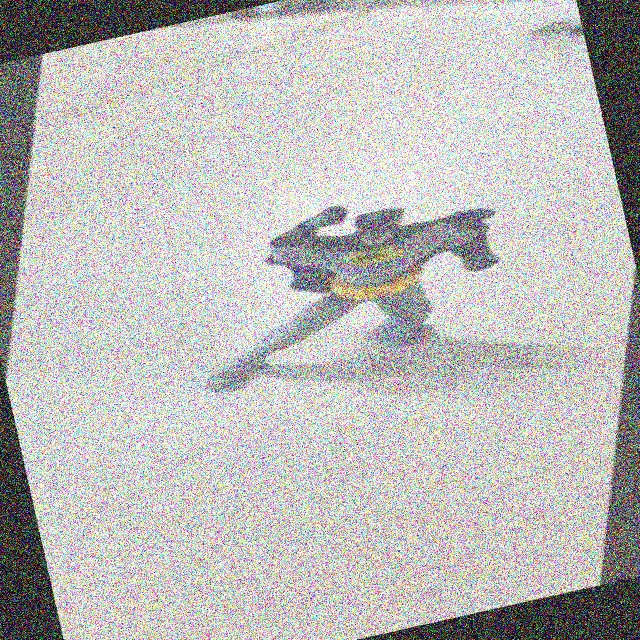Batman: (148, 155, 551, 429)
